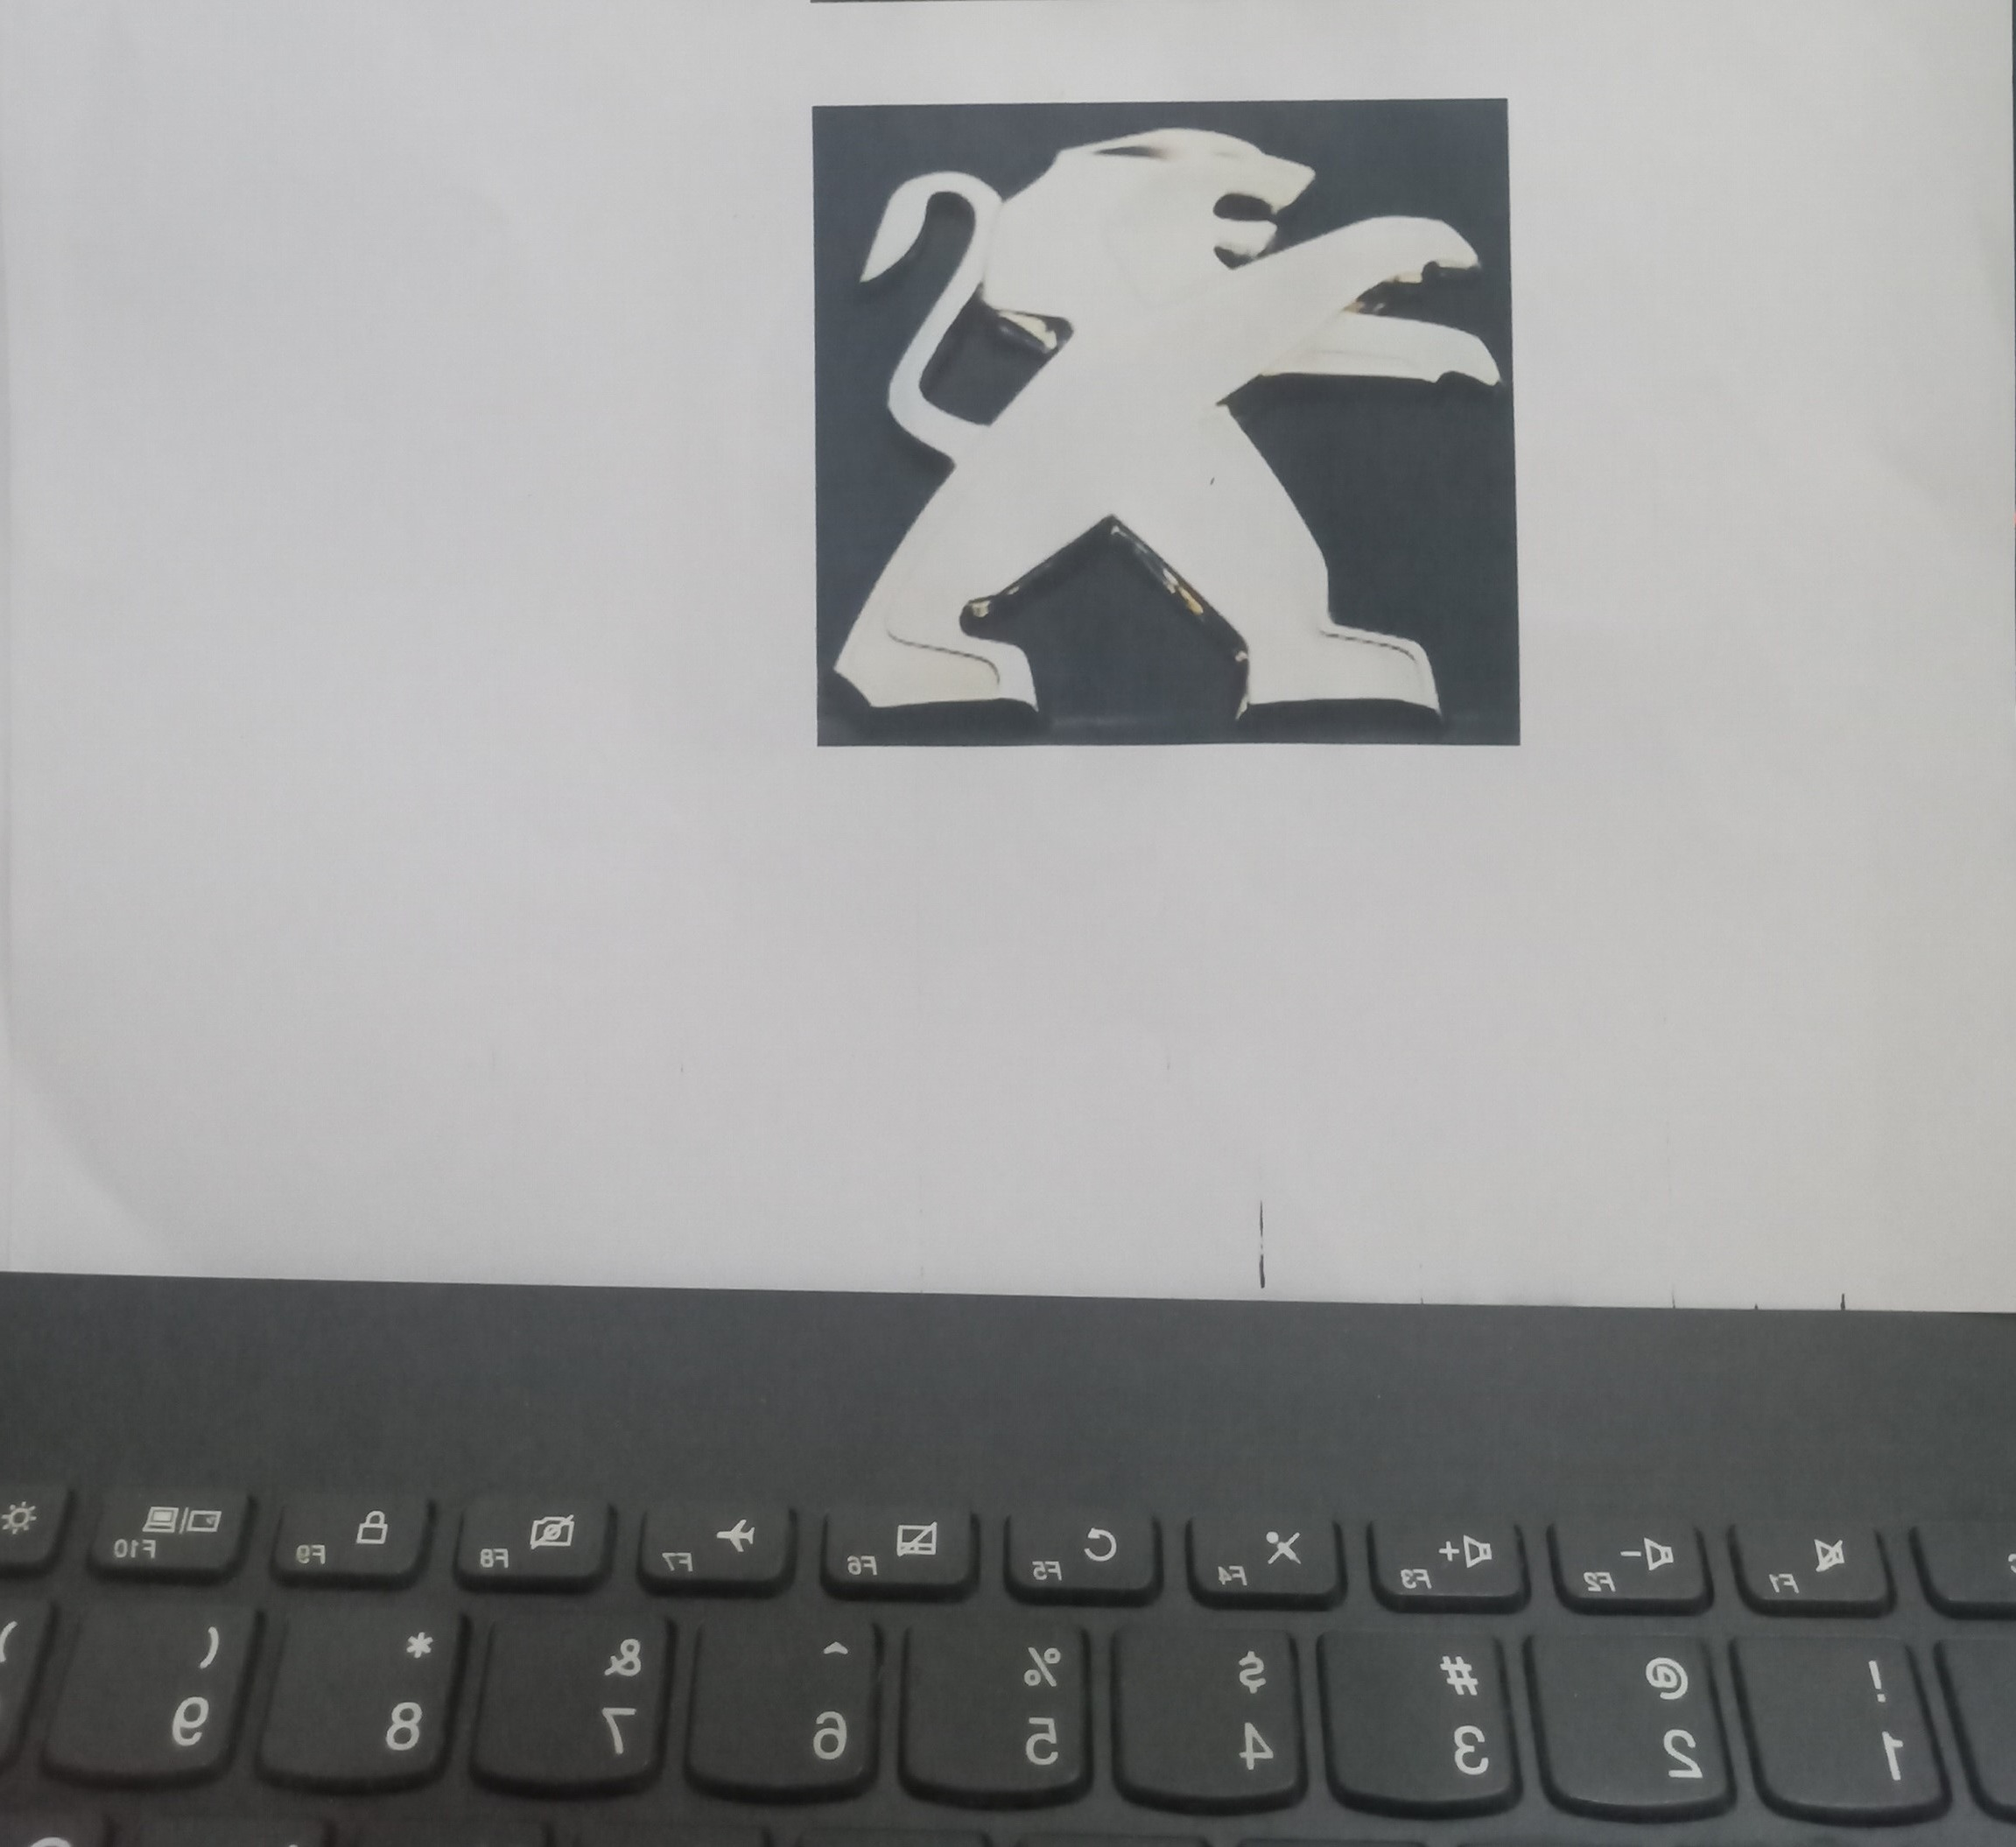Peugeot: (827, 109, 1512, 751)
